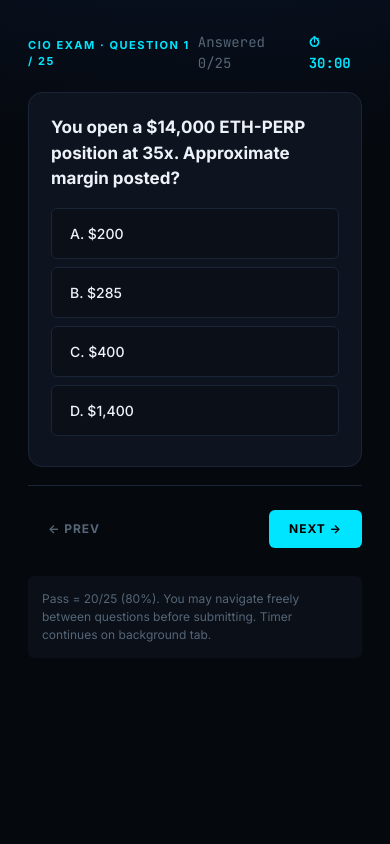
it: ExamView › navigates to next question
This screenshot has width=390, height=844.
Click the button "Next →".
click(316, 528)  # box 269,510 -> 362,548
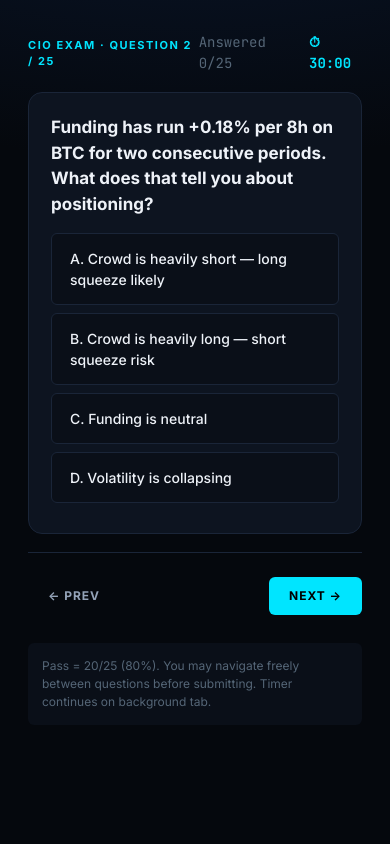
Expected: the text "CIO Exam · Question 2 / 25" is shown, 28,36 -> 199,70
